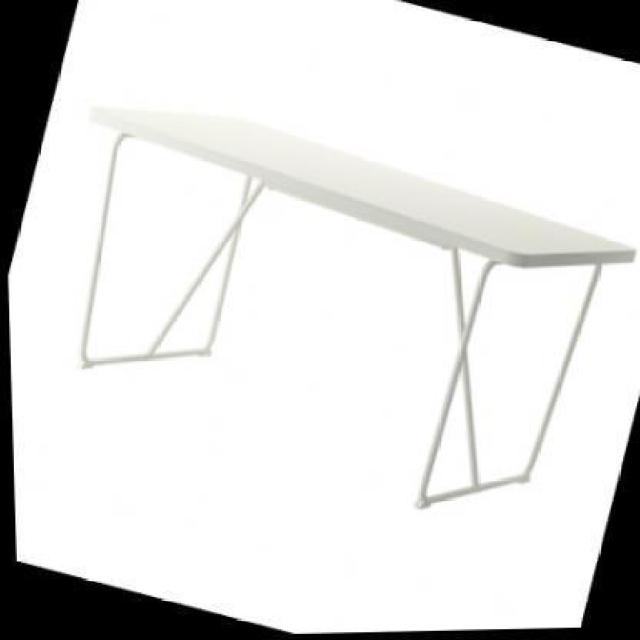tables: (77, 100, 637, 509)
